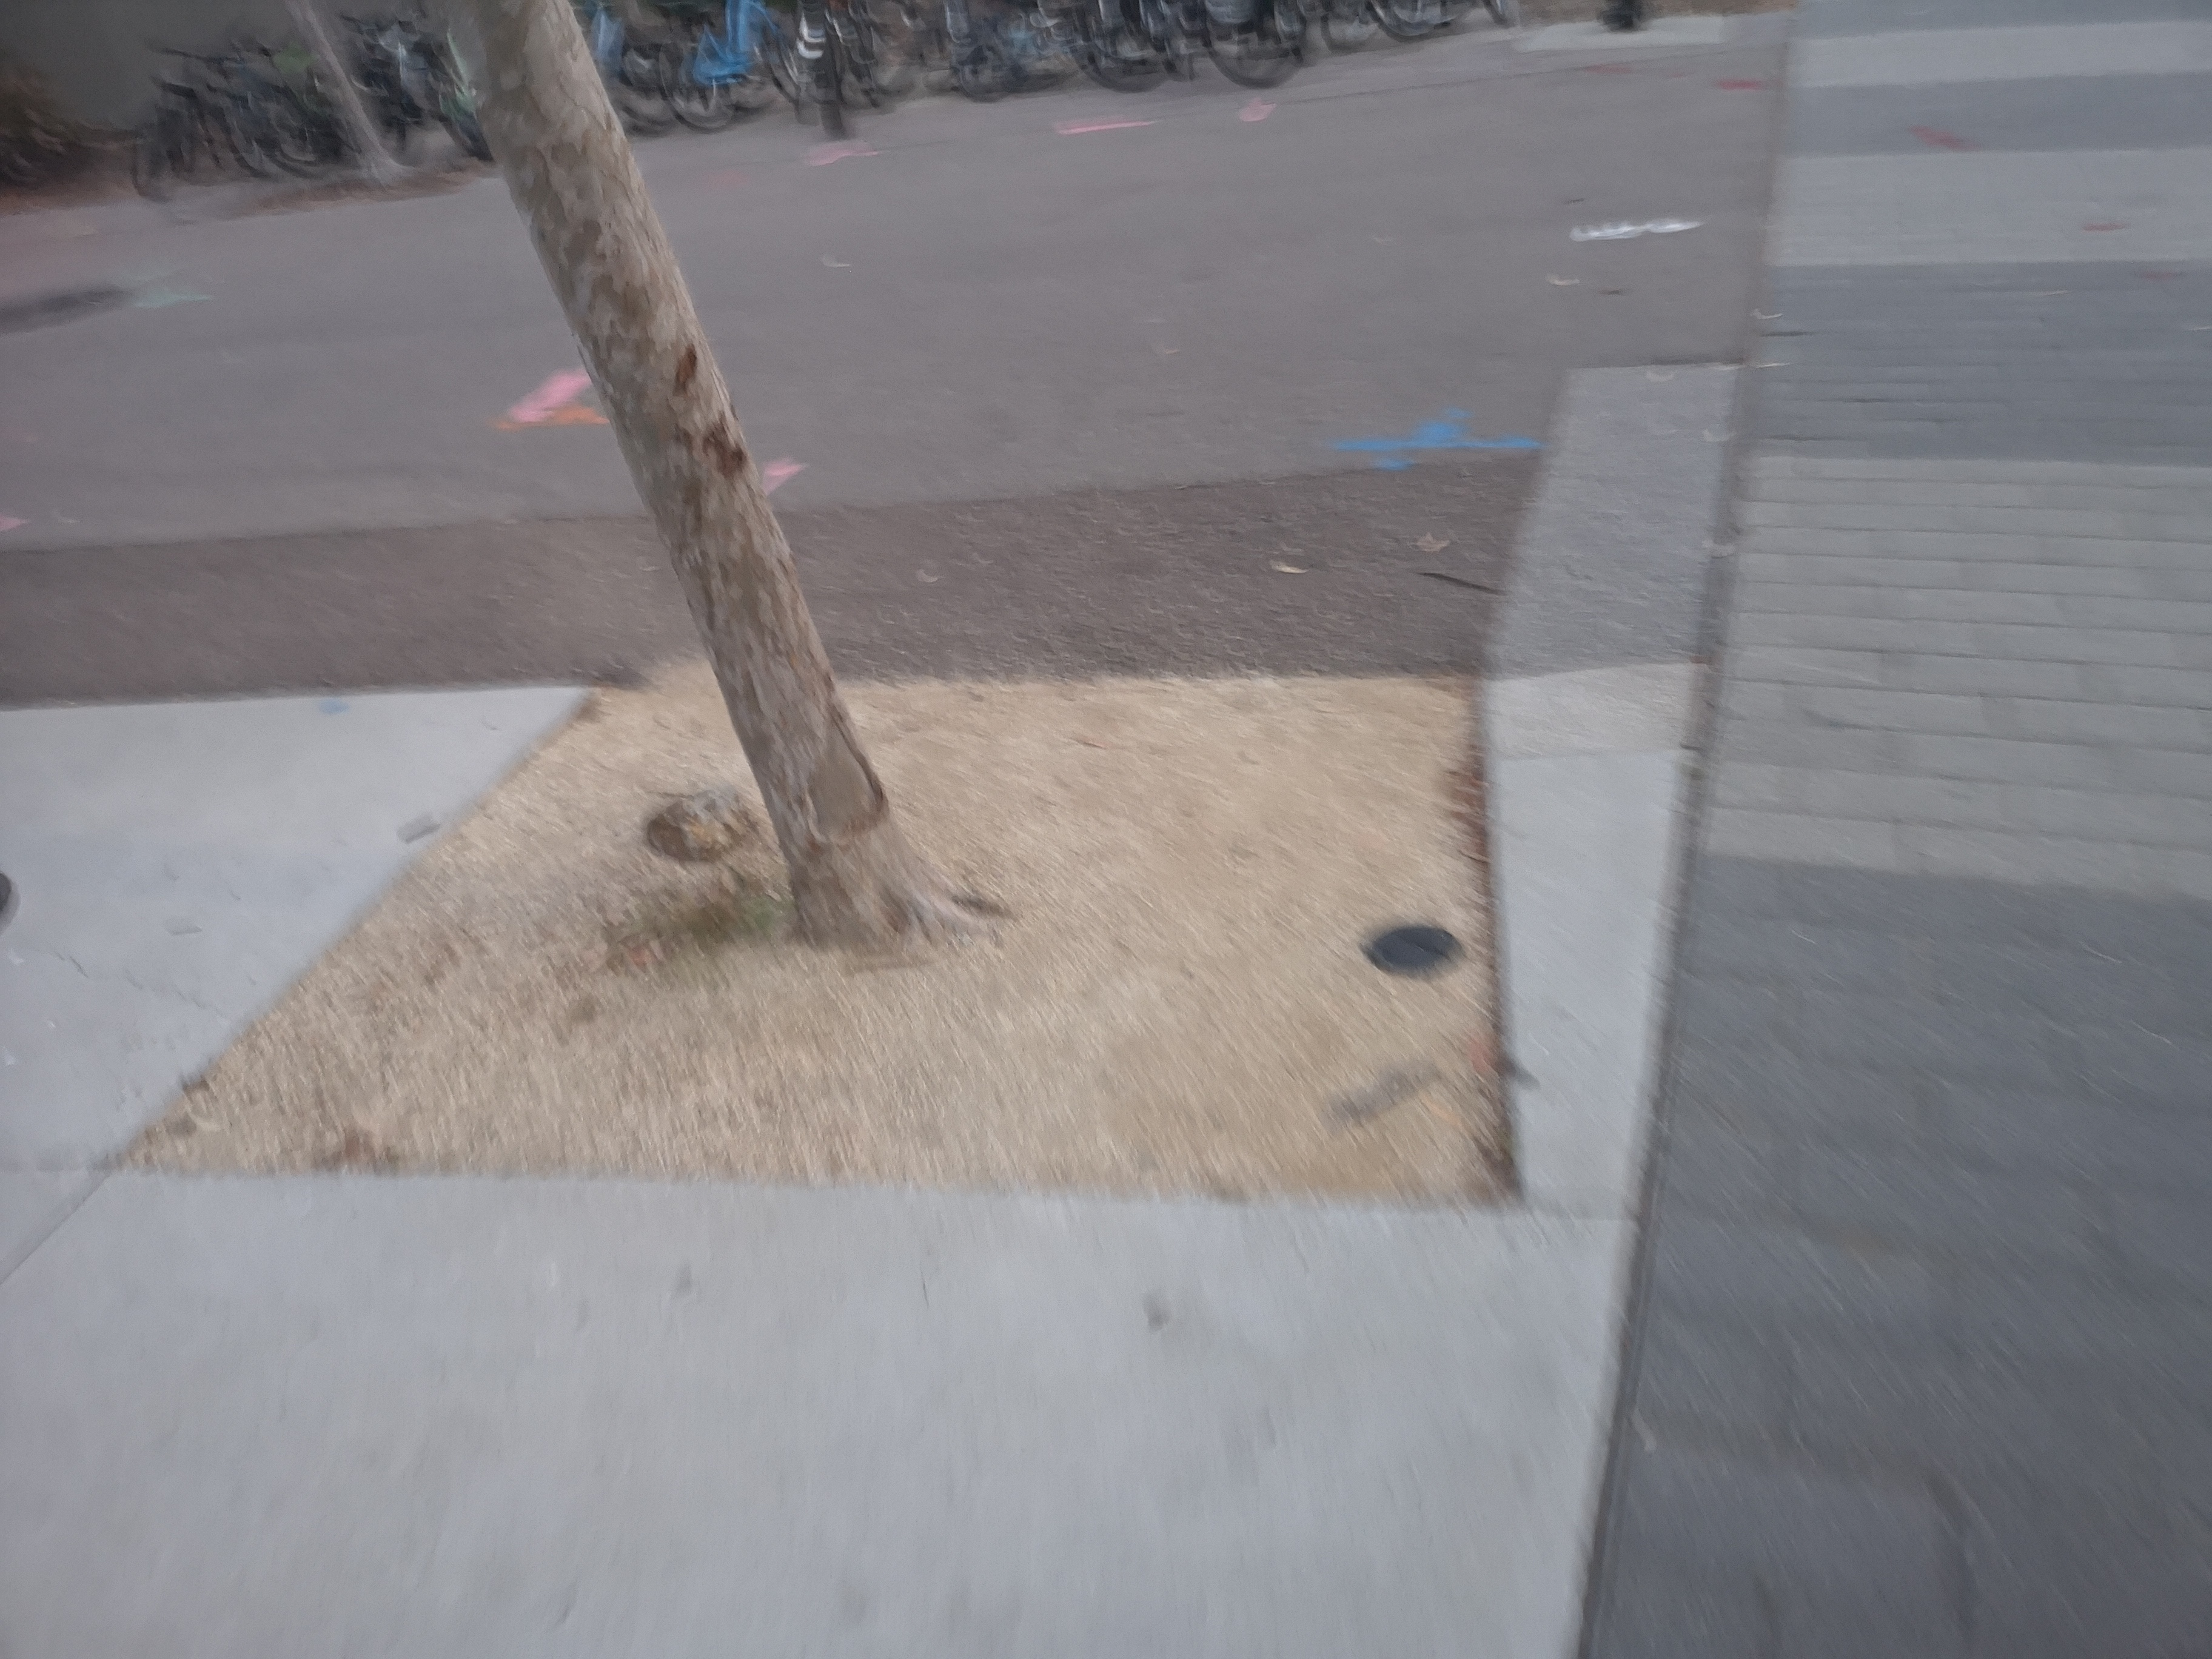Edge: (118, 678, 643, 1225), (92, 1103, 1449, 1274), (1352, 636, 1625, 1277), (486, 608, 1510, 774)
Obstacle: (401, 16, 1029, 1023)
